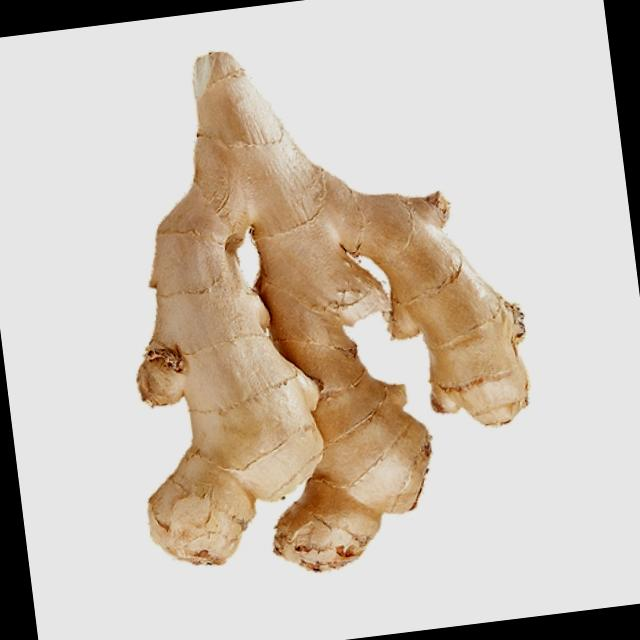ginger-root: (81, 4, 566, 614)
